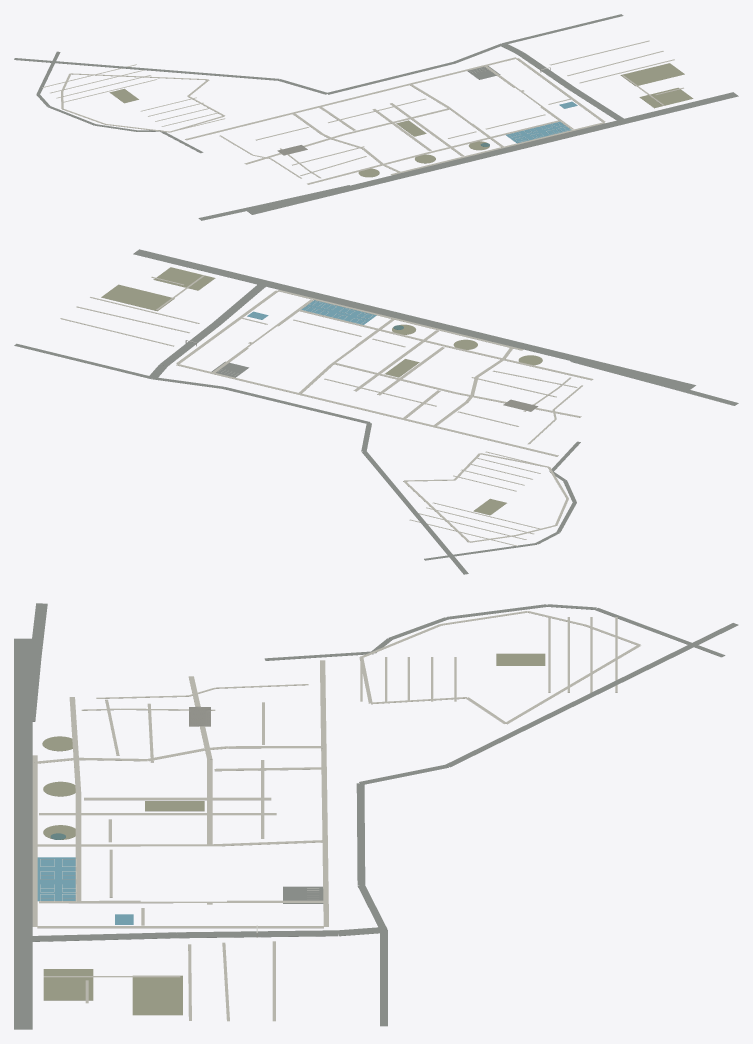
File: shared-00-medium.glb
3 renders of one model, top to bottom at view 1: azimuth 30°, elevation 25°; view 2: azimuth 150°, elevation 25°; view 3: azimuth 270°, elevation 25°, orthographic. The views are drawn at different scales.
Parts seen in each view (by area): view 1: 邯郸路.001, Campus east west road.008, 东区草坪.001, 北侧边界道路.005, 室外球场.001, 新闻学院庭院.001, Campus east west road.015, 国定路.004, 北侧边界道路.007, 国定路.003, 北侧边界道路.009; view 2: 邯郸路.001, 东区草坪.001, Campus east west road.008, 室外球场.001, 北侧边界道路.005, 新闻学院庭院.001, Campus east west road.015; view 3: 邯郸路.001, 东区草坪.001, 室外球场.001, 北侧边界道路.005, Campus east west road.008, 新闻学院庭院.001, 国定路.004, 国定路.003, Campus east west road.015, Campus north south road.023, Campus north south road.022, 北侧边界道路.007 (+4 smaller).
Part boxes in pixels (x1,y1,x2,y2): 邯郸路.001: (247,92,738,214); Campus east west road.008: (185,57,516,140); 东区草坪.001: (620,63,684,86); 北侧边界道路.005: (14,58,279,80); 室外球场.001: (506,121,571,143); 新闻学院庭院.001: (639,87,693,108); Campus east west road.015: (390,122,605,175); 国定路.004: (517,52,574,89); 北侧边界道路.007: (327,62,454,94); 国定路.003: (568,87,626,122); 北侧边界道路.009: (502,14,623,43); 邯郸路.001: (133,249,695,389); 东区草坪.001: (101,284,174,311); Campus east west road.008: (176,364,558,456); 室外球场.001: (301,300,376,324); 北侧边界道路.005: (361,451,468,574); 新闻学院庭院.001: (153,267,215,290); Campus east west road.015: (277,290,523,350); 邯郸路.001: (14,638,32,1029); 东区草坪.001: (132,975,182,1015); 室外球场.001: (37,857,75,901); 北侧边界道路.005: (445,623,738,767); Campus east west road.008: (320,660,328,926); 新闻学院庭院.001: (43,969,93,1000); 国定路.004: (177,930,338,938); 国定路.003: (23,932,177,941); Campus east west road.015: (32,755,37,926); Campus north south road.023: (37,926,323,928); Campus north south road.022: (39,900,326,903); 北侧边界道路.007: (356,783,365,885).
Size of what is drawn, in the model's own units: 1038 by 5.46 by 746.
11 materials, 1 textured.
